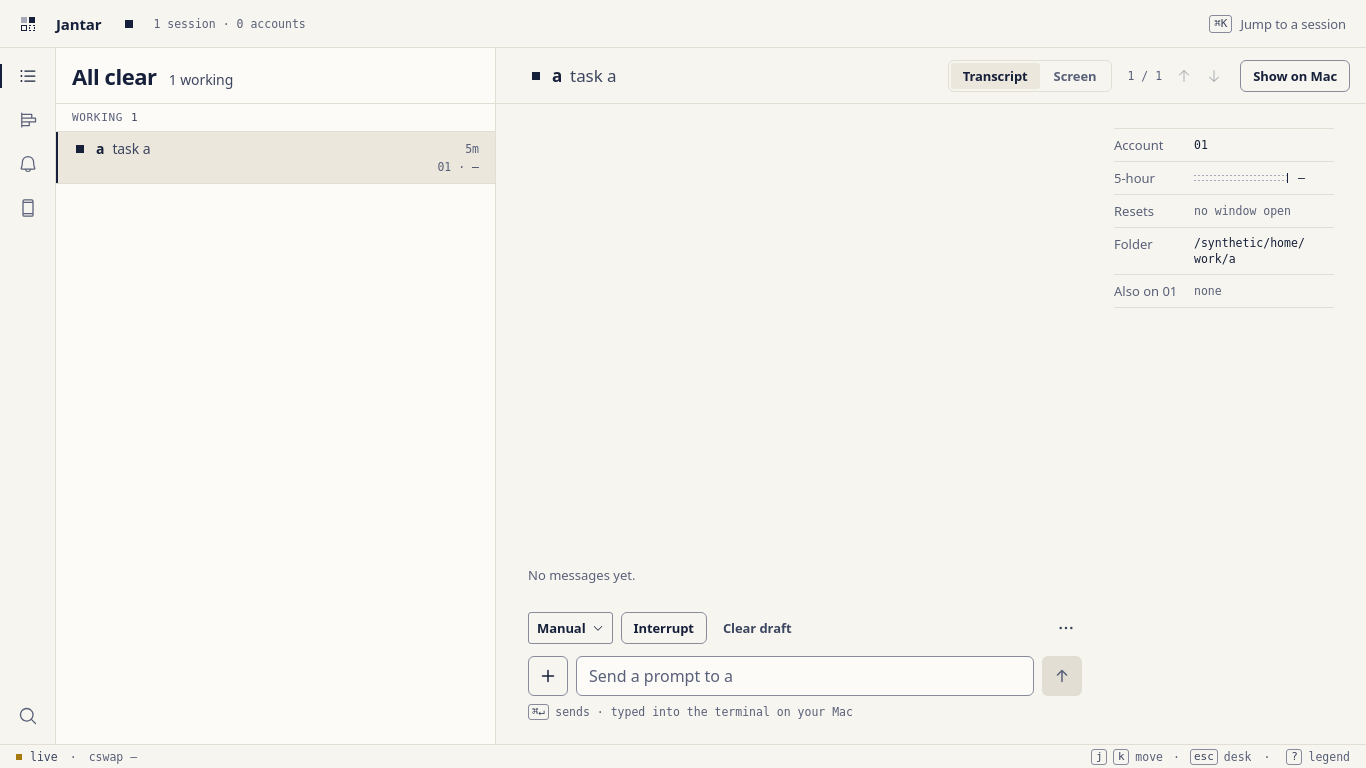
Test case: the control bar (C8) › shows a refusal with the daemon reason, in ink, until the next action
Expected: the button with aria-label "Permission mode:" is enabled, 528,612 -> 612,644
Expected: the button named "Commands" is enabled, 1050,612 -> 1082,644
Click the button with aria-label "Clear draft in the Mac's terminal": coordinates (757, 628) 715,612 -> 799,644
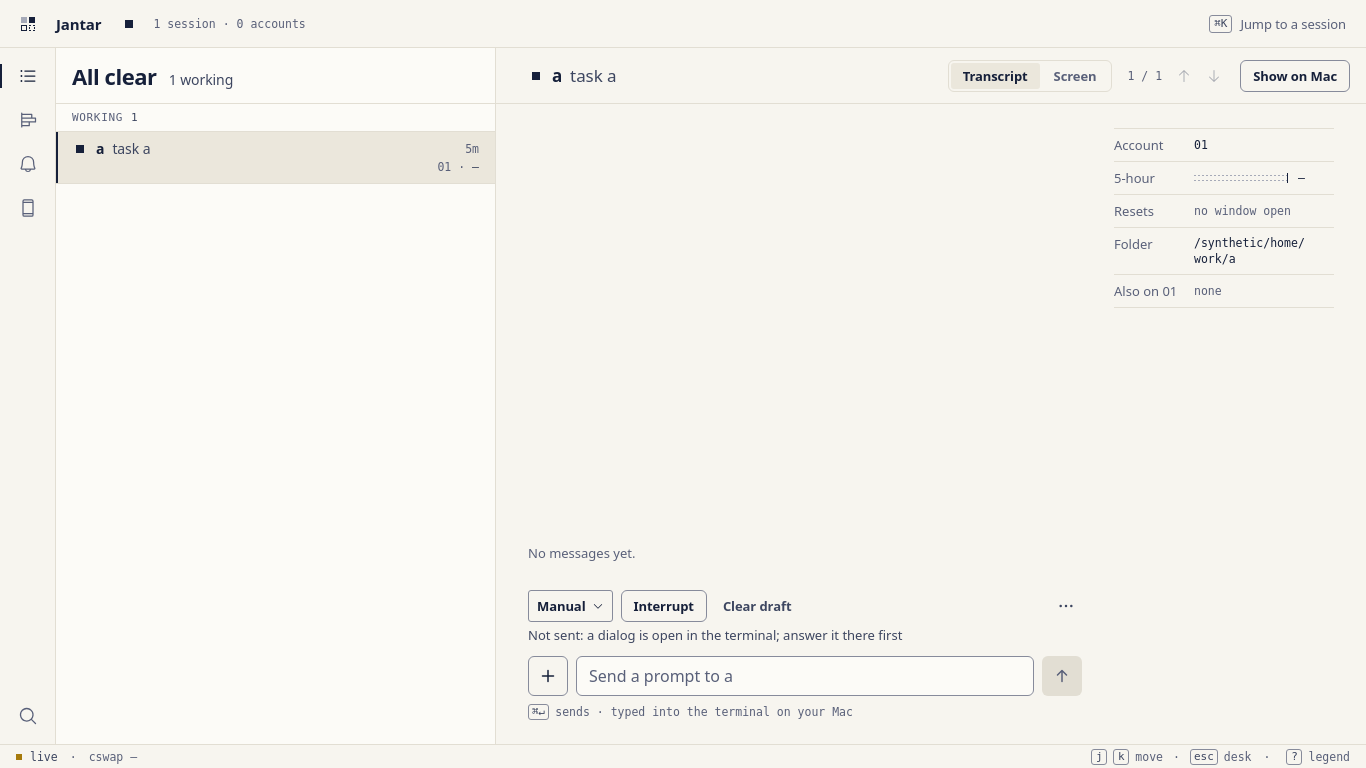
Expected: the message "Not sent: a dialog is open in the terminal; answer it there first" is shown, 528,626 -> 902,644
Click the button with aria-label "Clear draft in the Mac's terminal": coordinates (757, 606) 715,590 -> 799,622
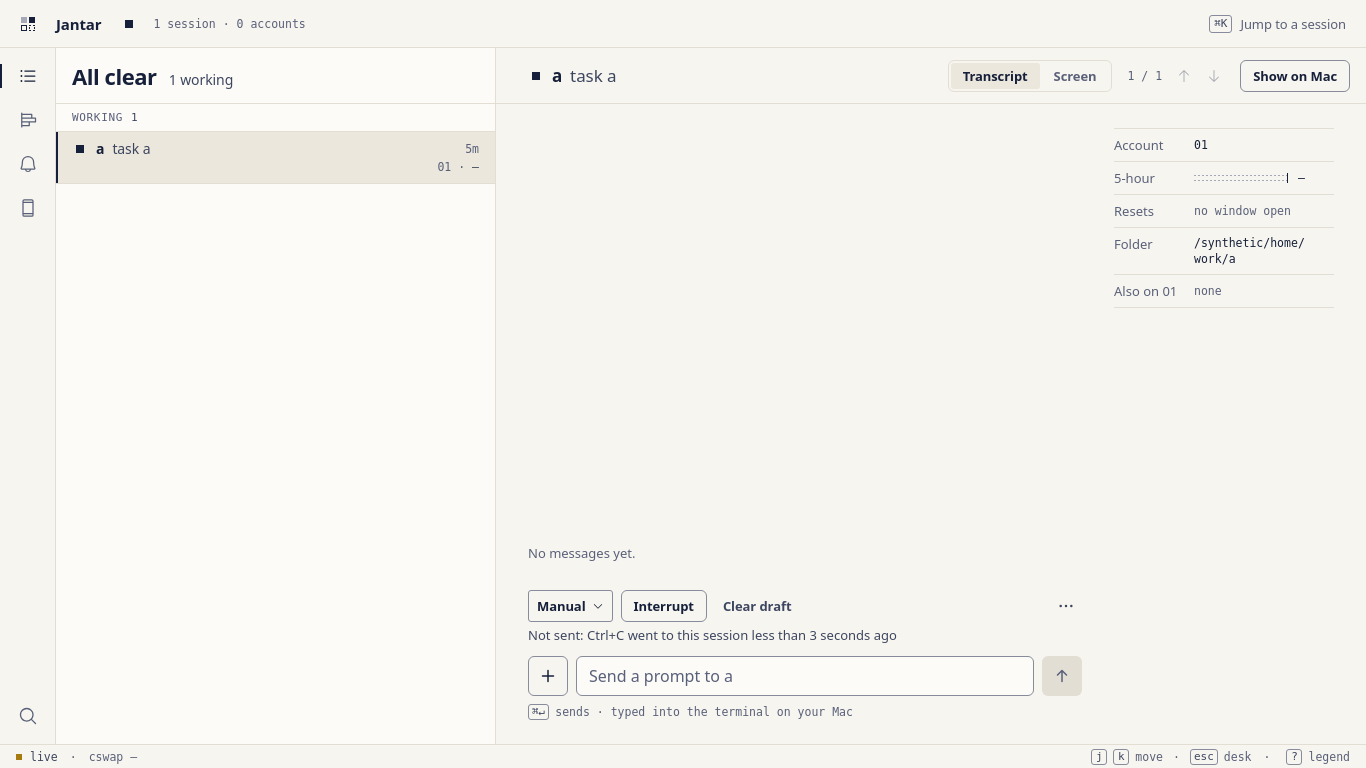
Expected: the message "Not sent: Ctrl+C went to this session less than 3 seconds ago" is shown, 528,626 -> 897,644
